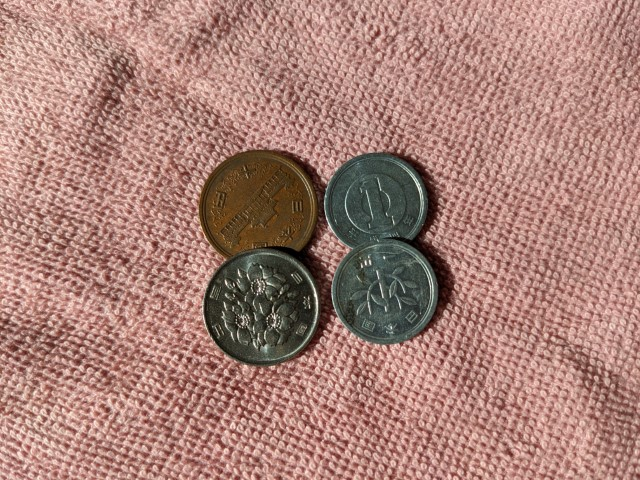100yen: (203, 249, 320, 365)
10yen: (199, 151, 318, 261)
1yen: (331, 239, 438, 344), (324, 153, 428, 249)
